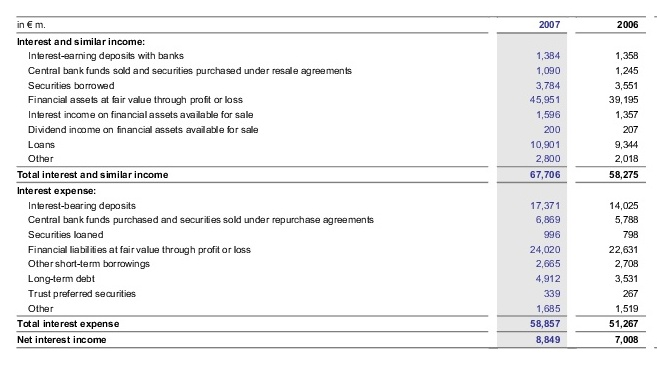table: (0, 0, 657, 371)
